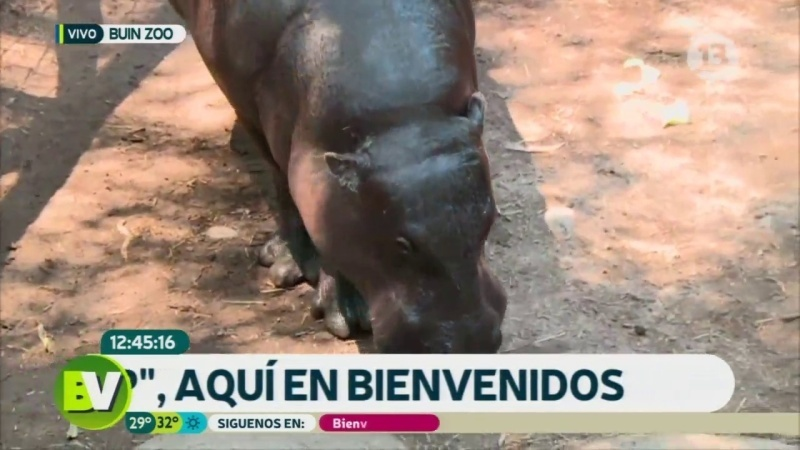hipopotamo: (161, 1, 557, 352)
